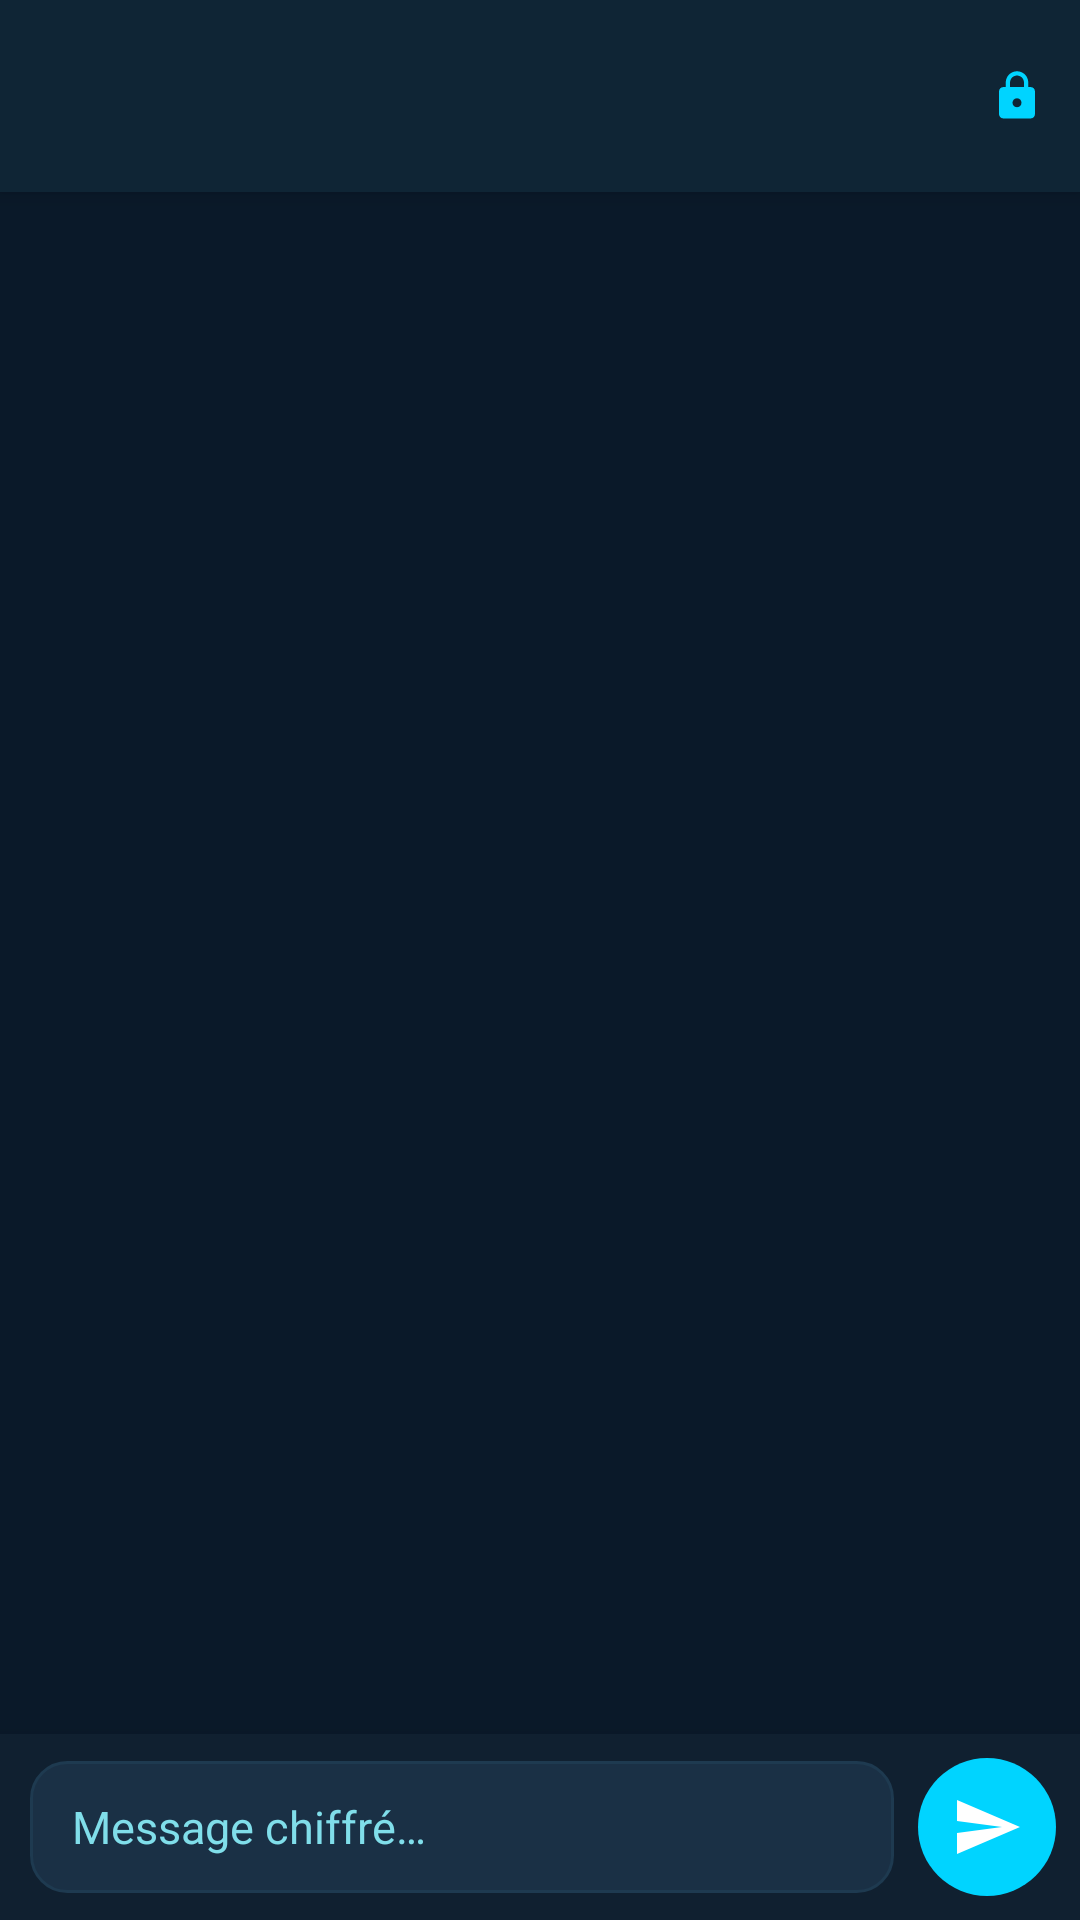

Screen size 1080 x 1920. Icon name, then its center in pixels as [x,y]:
Chiffrement actif: [1017,95]
Envoyer: [987,1827]
